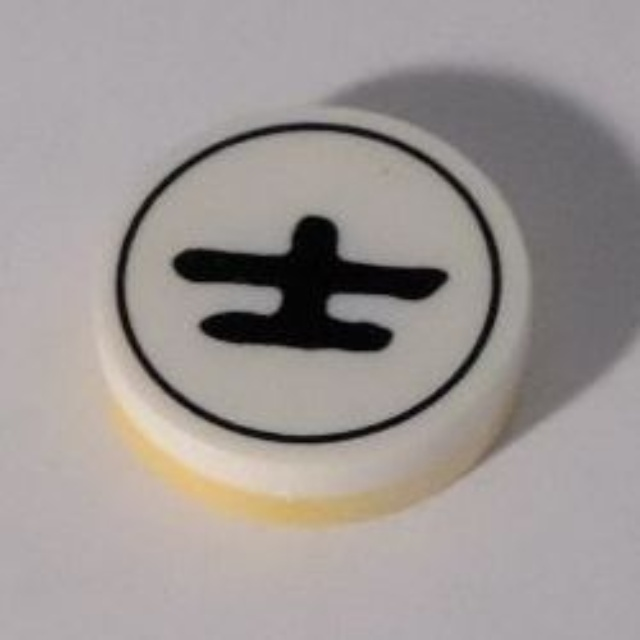black_si: (85, 99, 556, 528)
